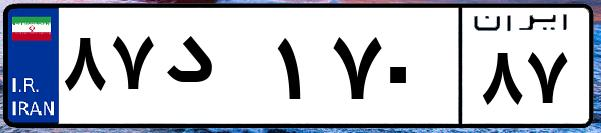0: (385, 28, 445, 110)
1: (270, 28, 330, 110)
7: (330, 28, 385, 110), (525, 38, 570, 115), (110, 28, 158, 98)
8: (57, 26, 110, 100), (475, 38, 525, 113)
د: (158, 20, 270, 120)
